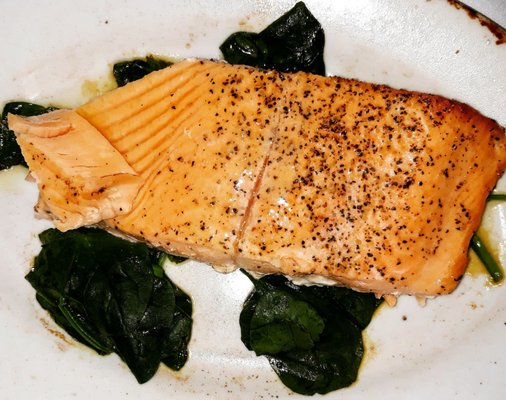curry: (24, 226, 193, 384), (239, 272, 376, 392), (219, 3, 326, 76), (113, 54, 174, 87), (0, 118, 25, 172)
